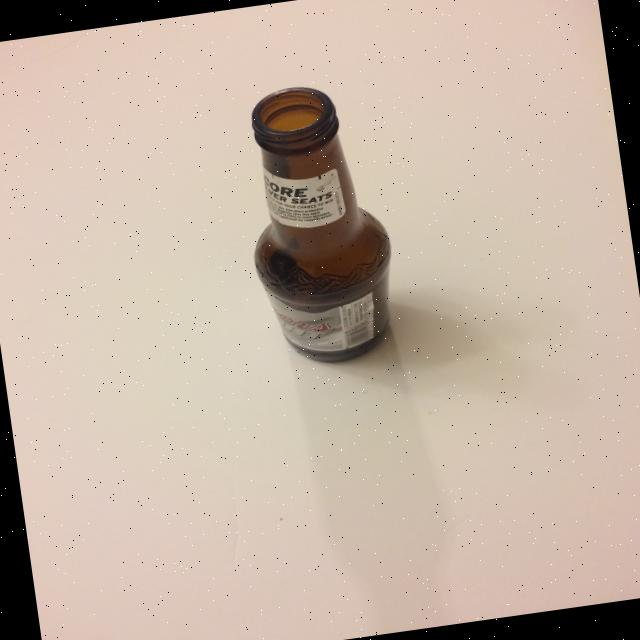glass: (230, 76, 406, 372)
